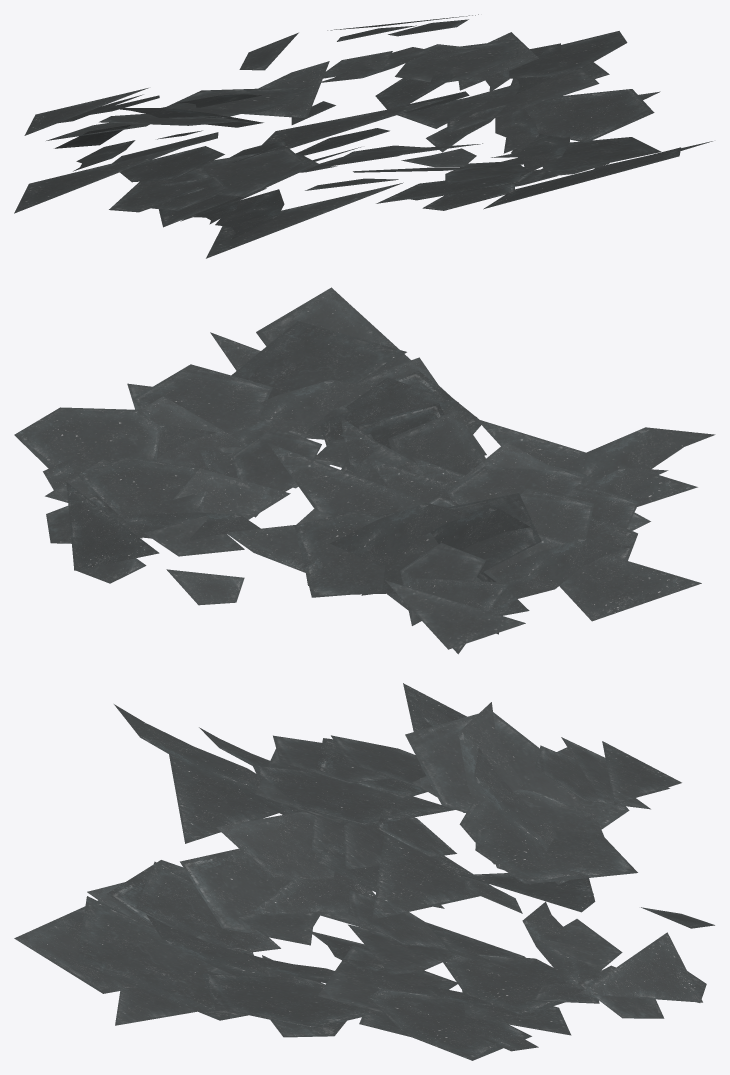
File: Ice_Stacks_005.fbx
3 views of the same model, one above another, from view 1: azimuth 30°, elevation 25°; view 2: azimuth 150°, elevation 25°; view 3: azimuth 270°, elevation 25° (orthographic). The views are drawn at different scales.
Parts seen in each view (by area): view 1: Ice_Stacks_005_LOD0; view 2: Ice_Stacks_005_LOD0; view 3: Ice_Stacks_005_LOD0.
Boxes of the visible parts, <box> form: Ice_Stacks_005_LOD0: <box>14,14,712,258</box>; Ice_Stacks_005_LOD0: <box>14,287,715,654</box>; Ice_Stacks_005_LOD0: <box>14,683,714,1060</box>.
Size of what is drawn, in the model's own units: 12.01 by 1.32 by 9.18.
